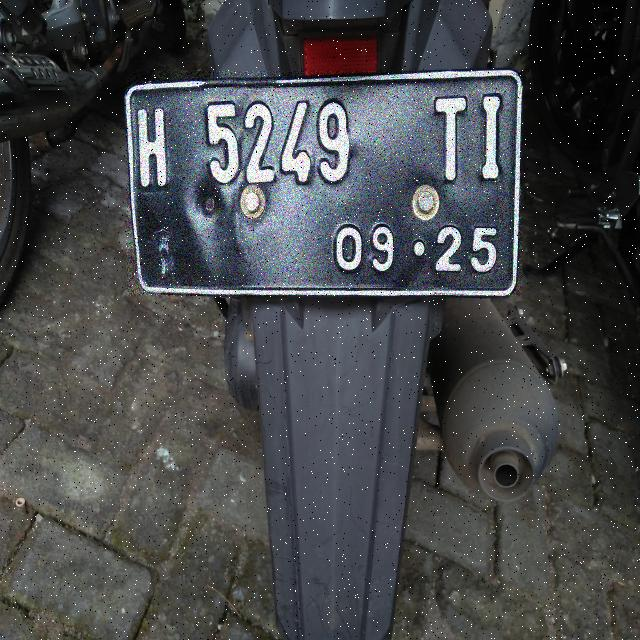plate: (127, 71, 521, 295)
